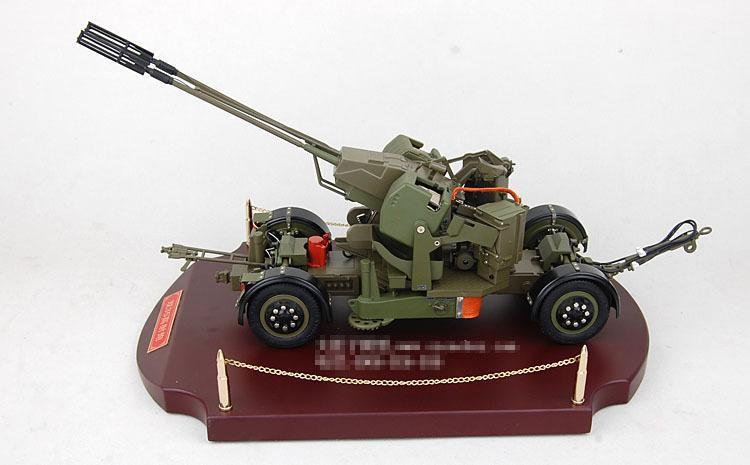MIL_SPG: (78, 22, 710, 348)
